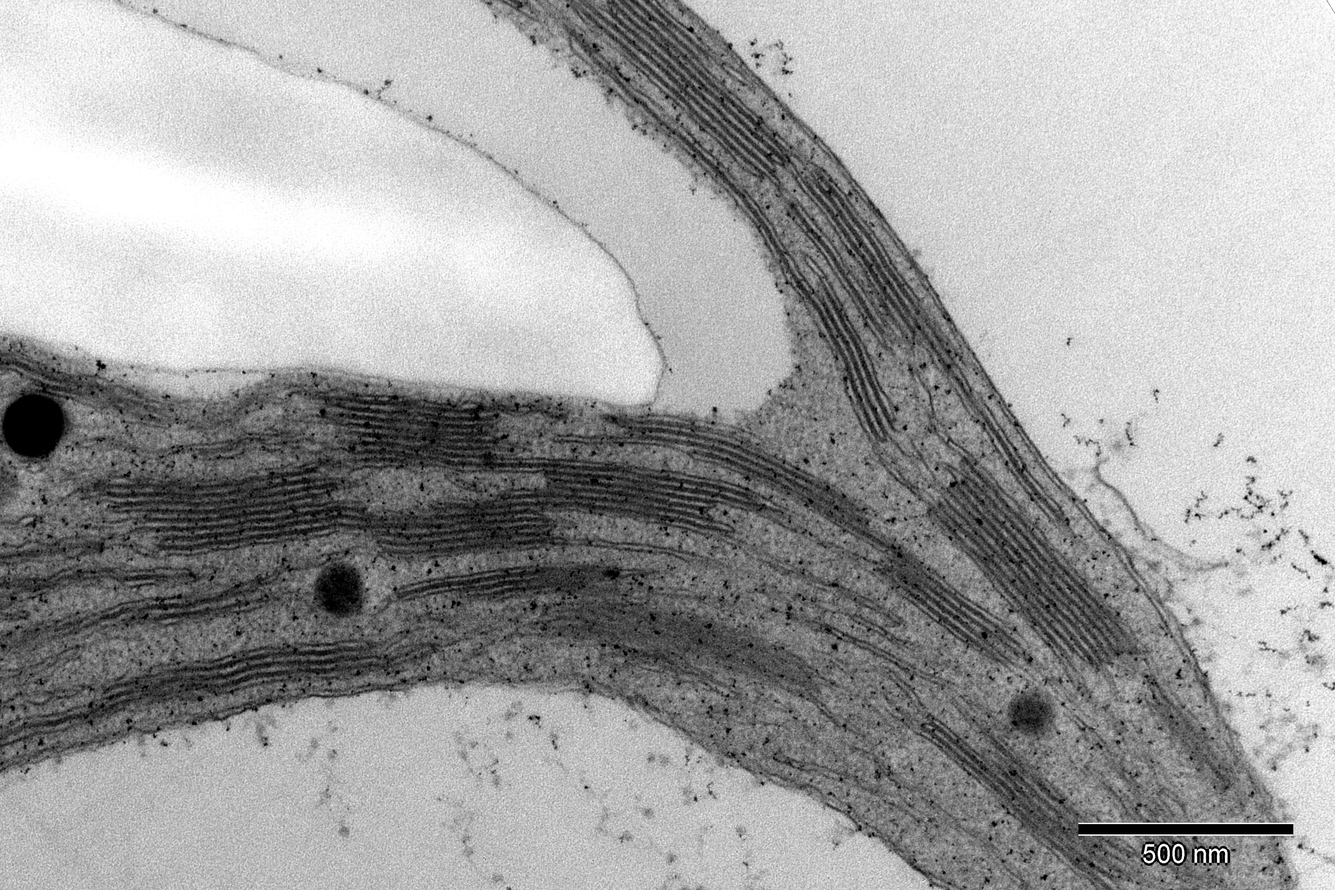granum: (922, 448, 1154, 673), (558, 0, 801, 183), (914, 709, 1136, 889), (794, 164, 969, 385), (620, 411, 873, 543), (92, 458, 370, 564), (543, 599, 820, 704), (98, 637, 393, 724), (870, 538, 1030, 666), (317, 384, 522, 478), (798, 276, 907, 447), (542, 458, 768, 539), (368, 485, 557, 564), (13, 356, 178, 432), (1138, 680, 1244, 798), (140, 571, 279, 630), (455, 561, 596, 605)
